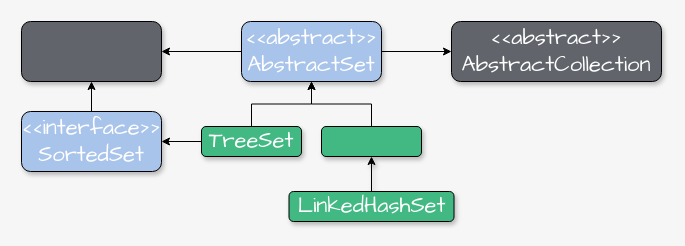
Some shapes in this 685 by 246 pixel diagram are drawn without their labels. The centre of each missing label's shape, as x and y in pixels:
<<interface>> Set: point 92,52
HashSet: point 372,143
